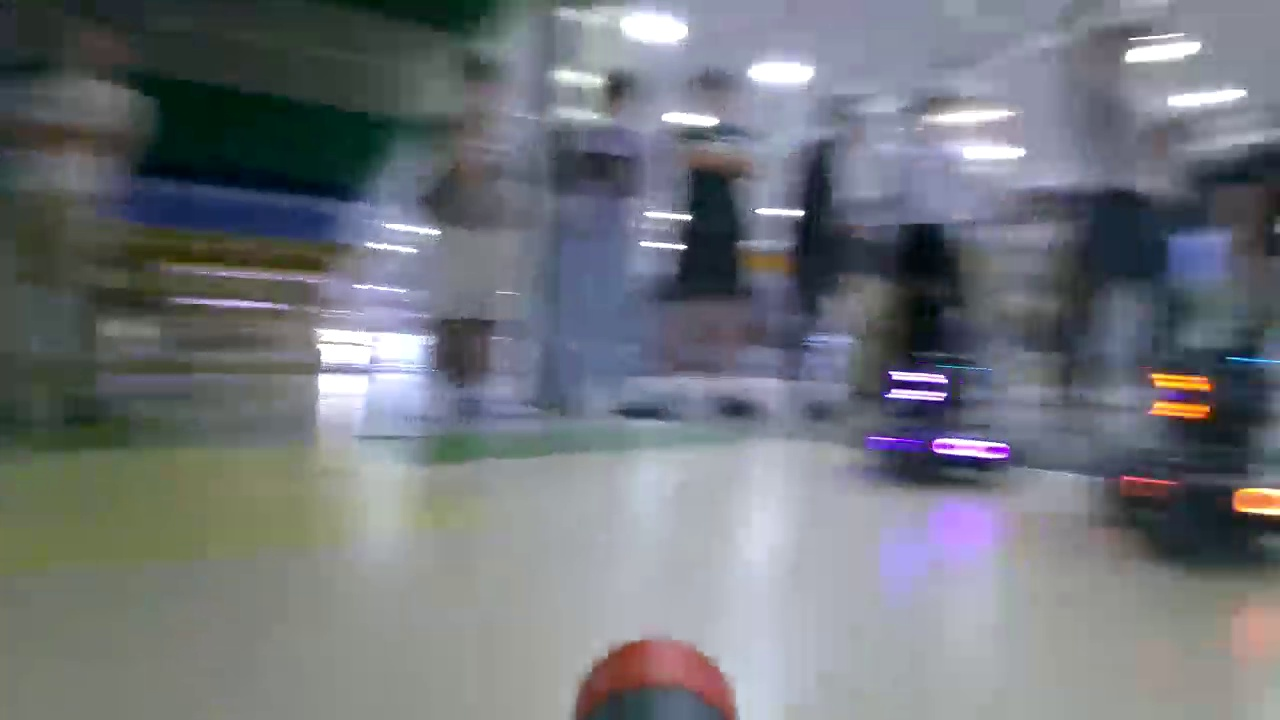robot: (1112, 361, 1280, 564), (871, 355, 1015, 484)
